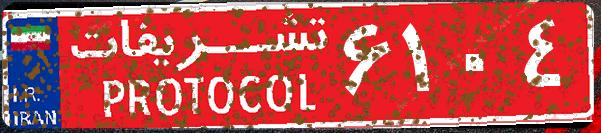0: (460, 20, 520, 115)
1: (400, 20, 460, 115)
4: (520, 20, 580, 115)
6: (340, 20, 400, 115)
تشریفات: (60, 8, 340, 125)
